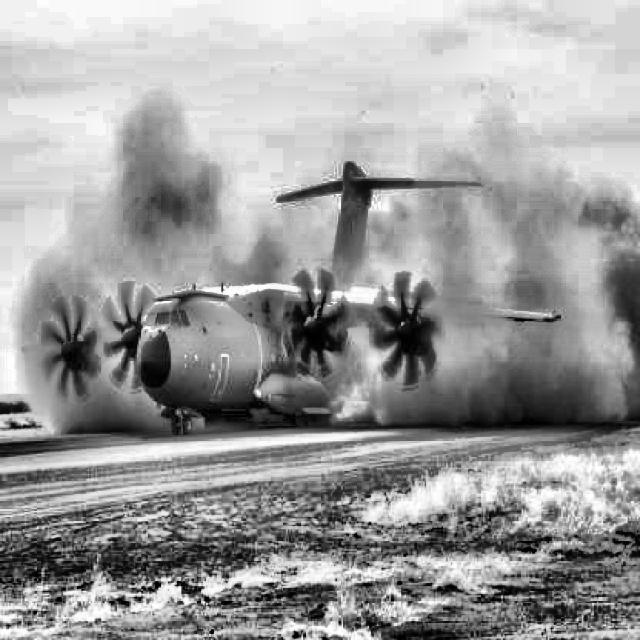A400M: (19, 158, 561, 436)
